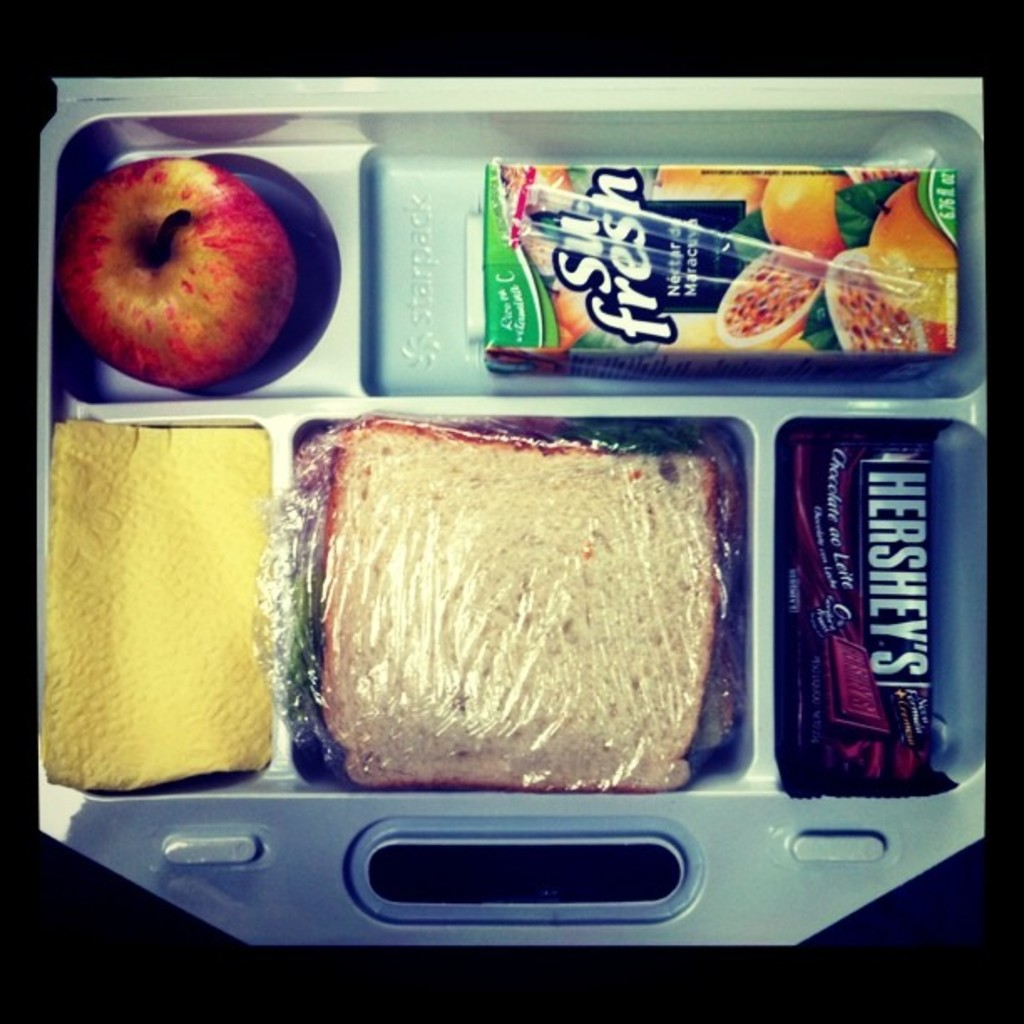Apple: (56, 137, 317, 393)
